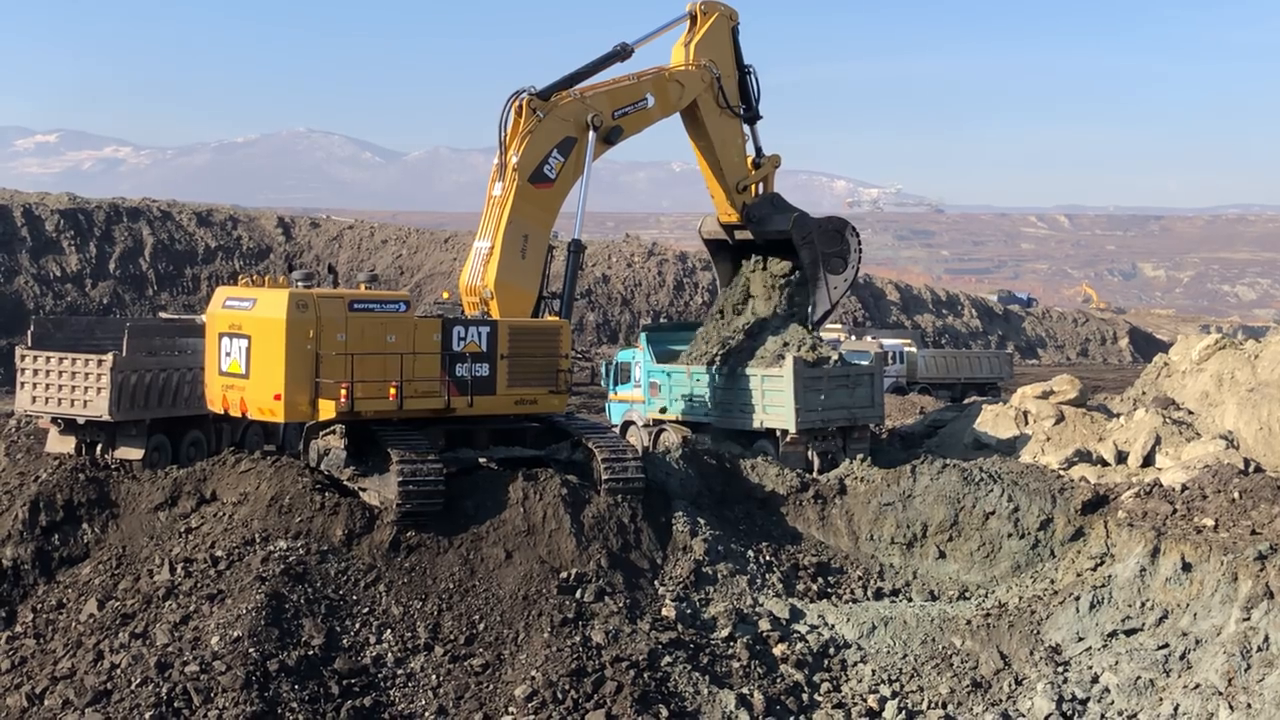full: (691, 209, 866, 342)
